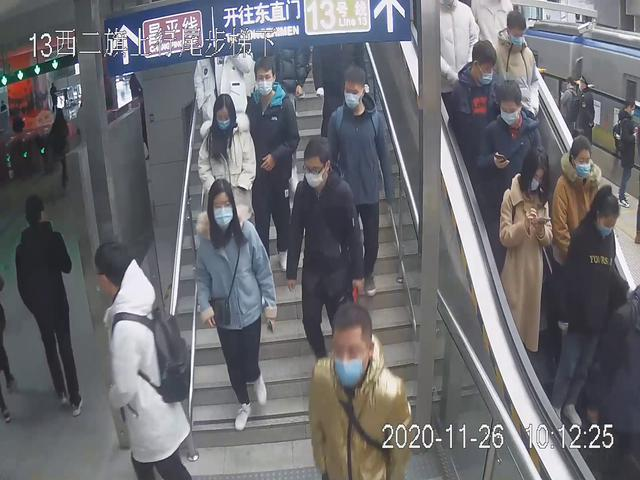person: (91, 237, 199, 480), (192, 174, 281, 431), (282, 132, 368, 383), (321, 63, 400, 301), (555, 182, 622, 427), (241, 55, 301, 276), (497, 143, 555, 371), (194, 91, 262, 262)
